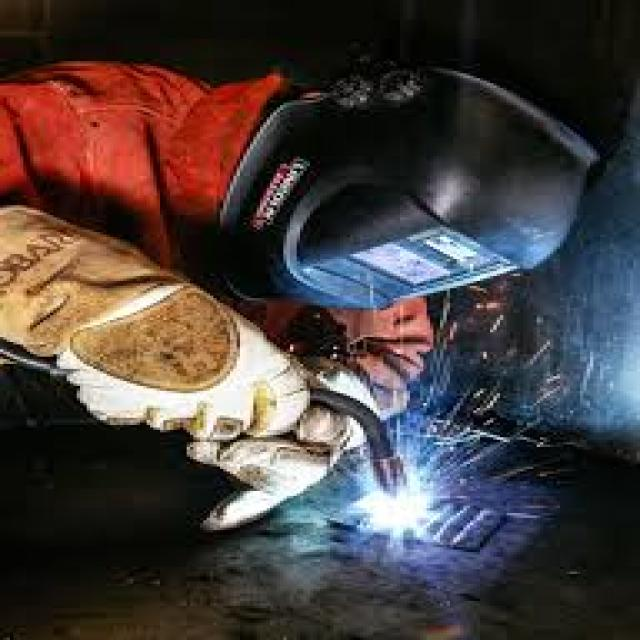welding: (363, 486, 433, 528)
